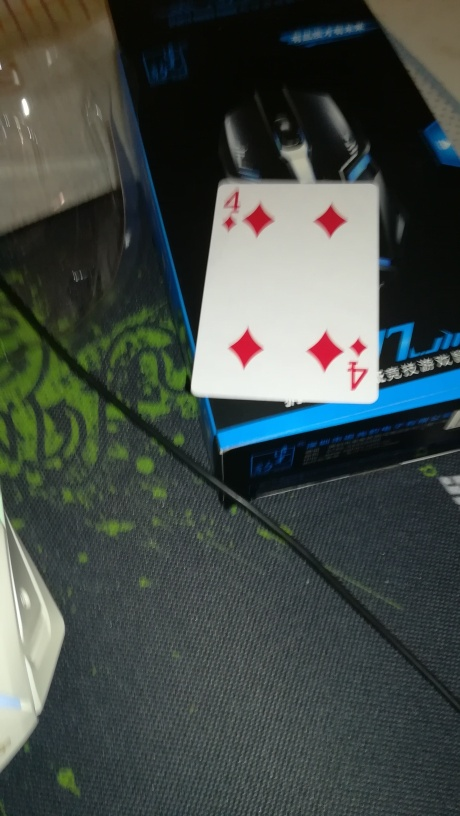fk 4: (187, 171, 385, 409)
